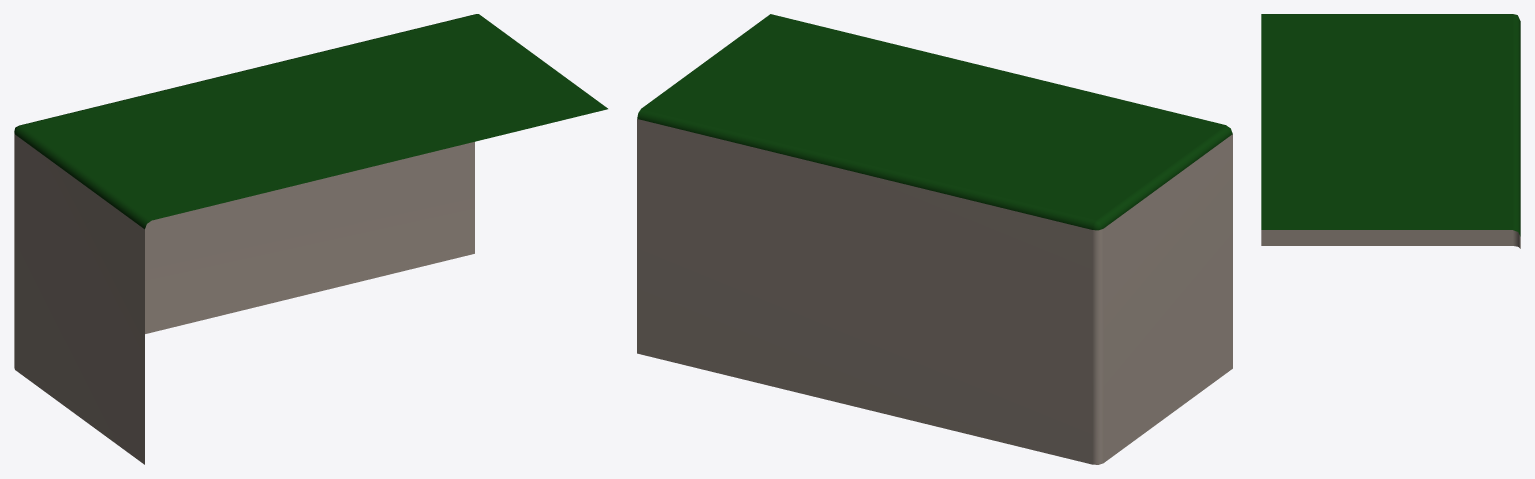
File: Cliff_02_Thin.fbx
The picture shows the model from 3 angles, left to right: view 1: azimuth 30°, elevation 25°; view 2: azimuth 150°, elevation 25°; view 3: azimuth 270°, elevation 25°; orthographic projection. The views are drawn at different scales.
Visible parts, largest first — view 1: Cliff_02_Thin; view 2: Cliff_02_Thin; view 3: Cliff_02_Thin.
Boxes of the visible parts, <box> form: Cliff_02_Thin: <box>14,14,607,464</box>; Cliff_02_Thin: <box>637,14,1232,464</box>; Cliff_02_Thin: <box>1261,14,1520,248</box>.
Bounding box in the file's own units: 200 × 100 × 100.
